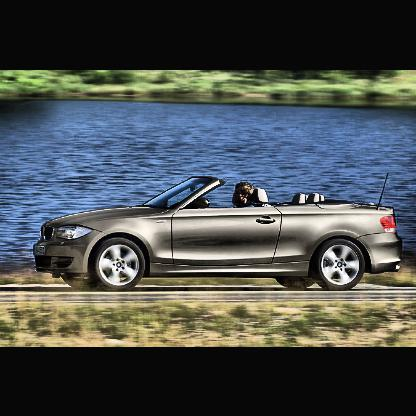BMW 1 Series Convertible 2012: (30, 172, 404, 294)
